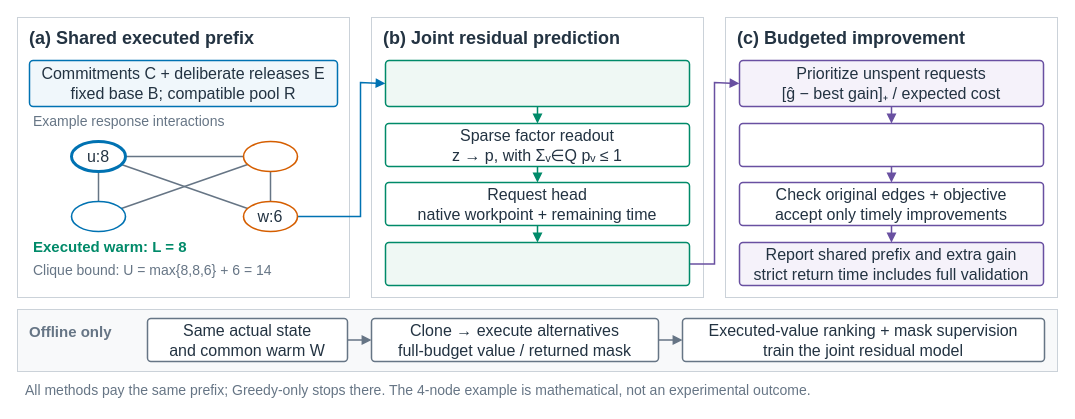
The diagram is 1075 pixels wide and 419 high, and some of its shapes have lost their labels. The centre of each missing label's shape, as x and y in pixels:
Execute finite native search use the same actual W for every policy: the point at 891,144
r̂ = L + (U − L) · sigmoid(f) ĝ = q + r̂: the point at 537,263
Shared encoder for observable (R, W) rewards · conflicts · resource factors: the point at 537,83
v:8: the point at 270,156
z:6: the point at 98,216
